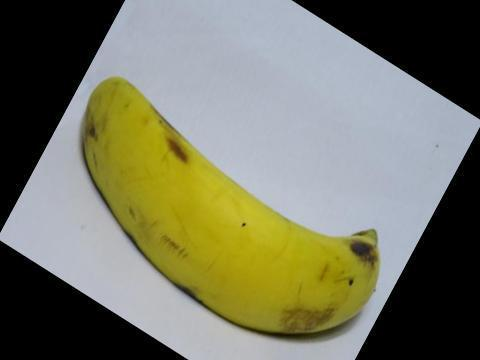freshripe: (67, 63, 406, 355)
